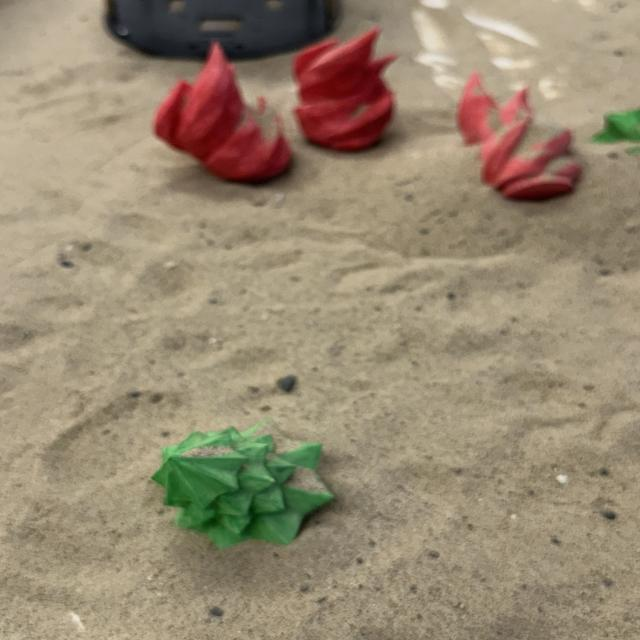fire: (150, 39, 292, 184), (455, 73, 586, 200), (289, 26, 400, 152)
tree: (148, 418, 336, 550), (592, 107, 640, 159)
